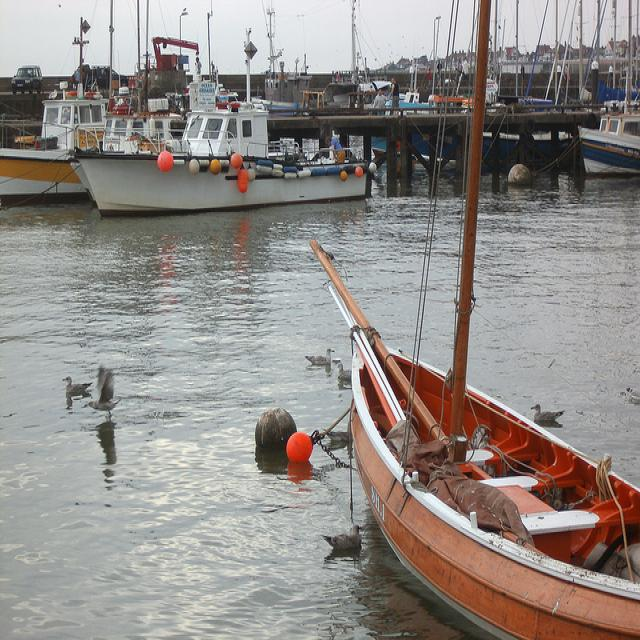Vehicle: (12, 66, 43, 98)
